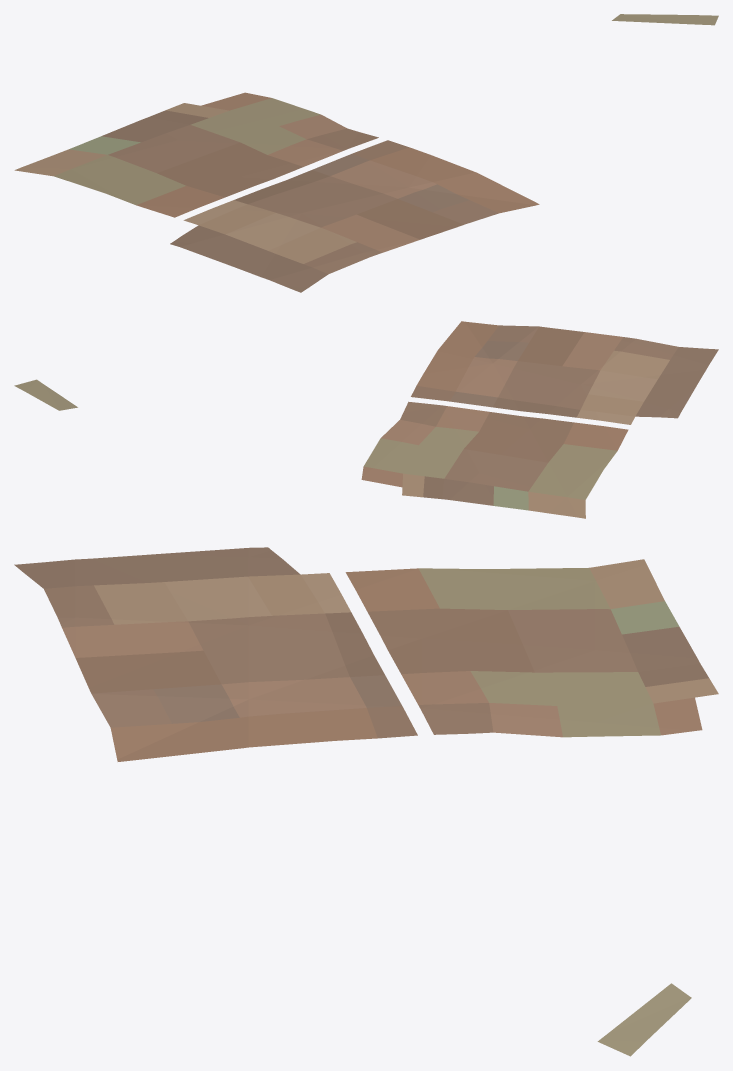
Rendered from farm_8_10_soil.glb.
3 views of the same model, one above another, from view 1: azimuth 30°, elevation 25°; view 2: azimuth 150°, elevation 25°; view 3: azimuth 270°, elevation 25° (orthographic). The views are drawn at different scales.
Visible parts, largest first — view 1: geometry_0; view 2: geometry_0; view 3: geometry_0.
Part boxes in pixels (x1,y1,x2,y2): geometry_0: [14, 14, 718, 292]; geometry_0: [14, 321, 718, 518]; geometry_0: [14, 547, 718, 1056].
Bounding box in the file's own units: 524 × 30.55 × 325.
